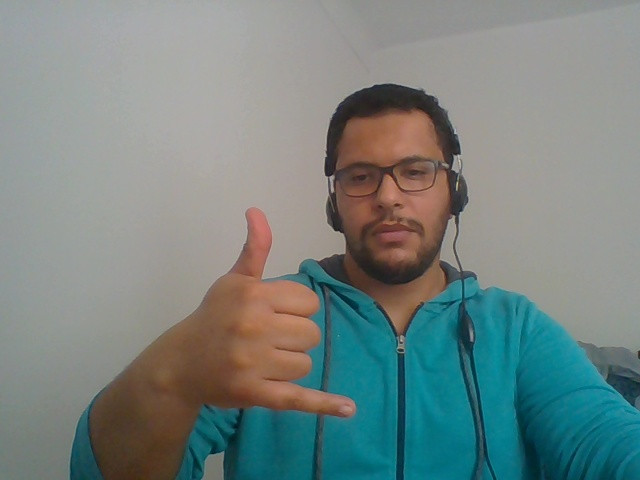callme: (123, 167, 362, 472)
